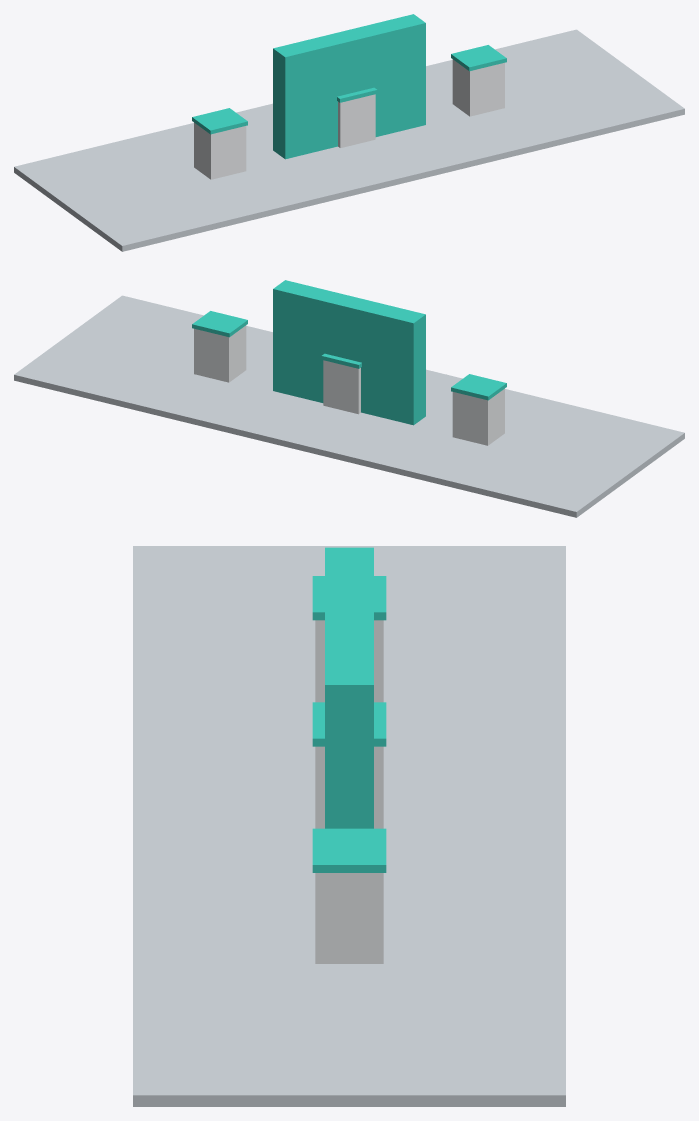
The picture shows the model from 3 angles, top to bottom: view 1: azimuth 30°, elevation 25°; view 2: azimuth 150°, elevation 25°; view 3: azimuth 270°, elevation 25°; orthographic projection. The views are drawn at different scales.
Visible parts, largest first — view 1: Exhibition Booth Concept; view 2: Exhibition Booth Concept; view 3: Exhibition Booth Concept.
Boxes of the visible parts, box(x1,y1,x2,y2) form: Exhibition Booth Concept: box(14, 14, 684, 251); Exhibition Booth Concept: box(14, 280, 684, 517); Exhibition Booth Concept: box(133, 546, 565, 1106).
Size of the model in its own units: 12 by 2.2 by 4.
